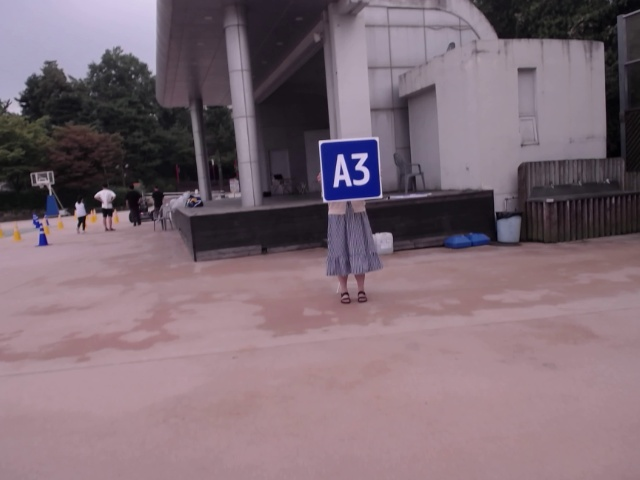delivery_a3: (319, 137, 382, 202)
